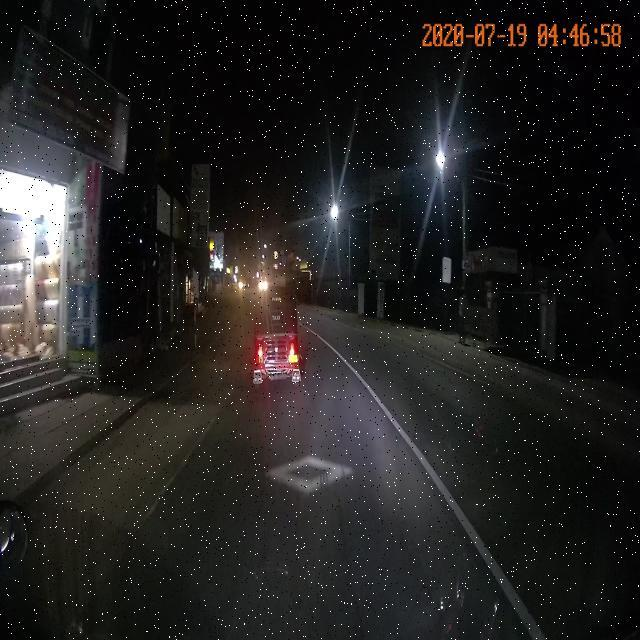diamond: (153, 449, 445, 495)
